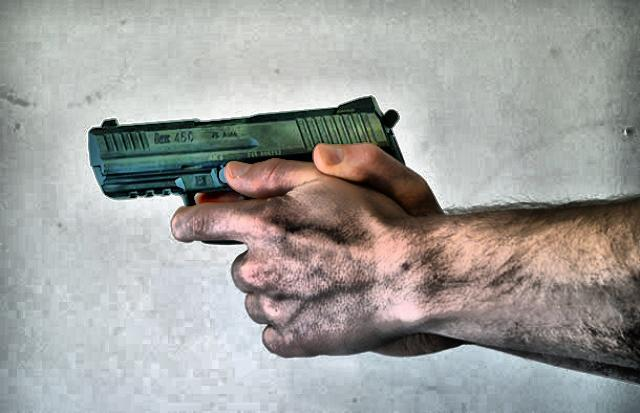pistol: (85, 94, 403, 244)
